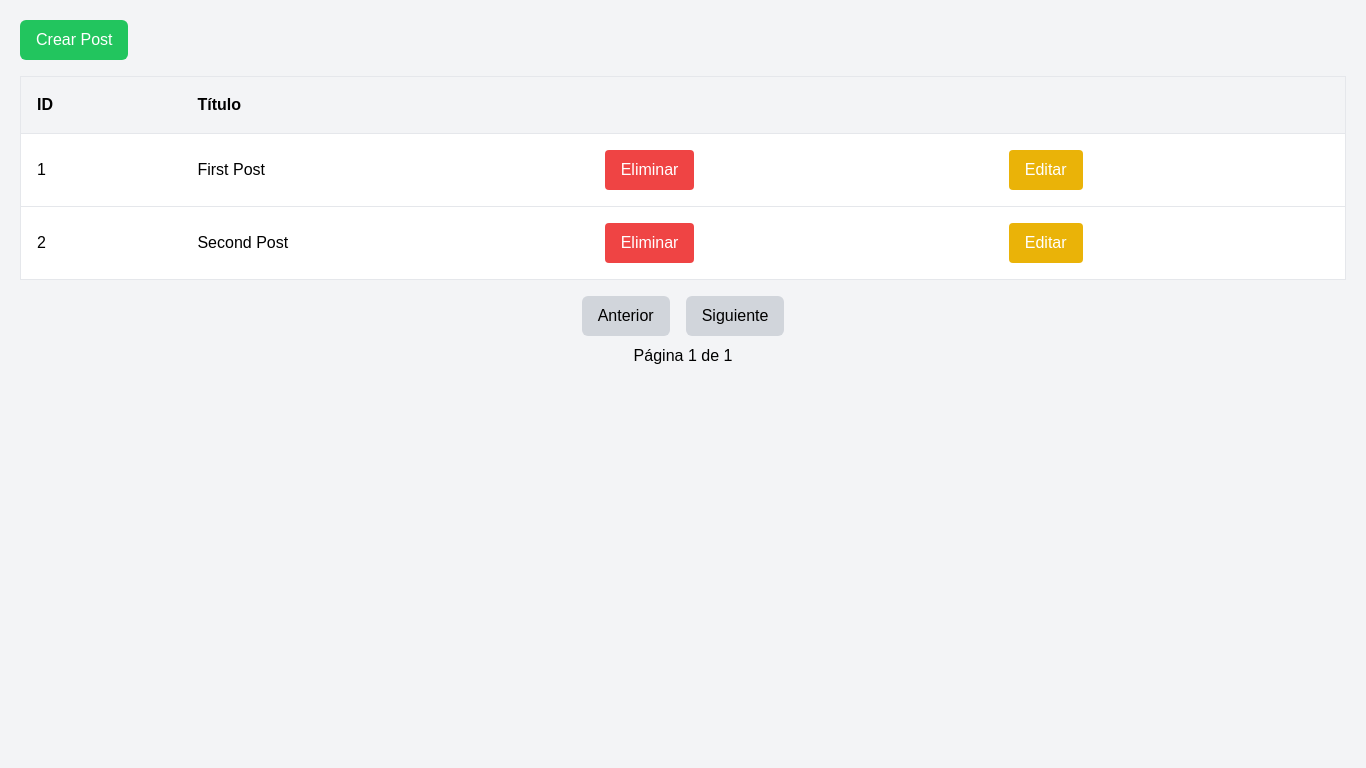
it: PostList Component › handles delete post functionality
The width and height of the screenshot is (1366, 768).
Expected: the text "First Post" is shown, x1=181 y1=134 x2=589 y2=206
Expected: the text "Second Post" is shown, x1=181 y1=206 x2=589 y2=280
Note: Click en el botón "Eliminar" del primer post
Click the button "Eliminar" in the row of "First Post" at [650, 170], box x1=605 y1=150 x2=694 y2=190
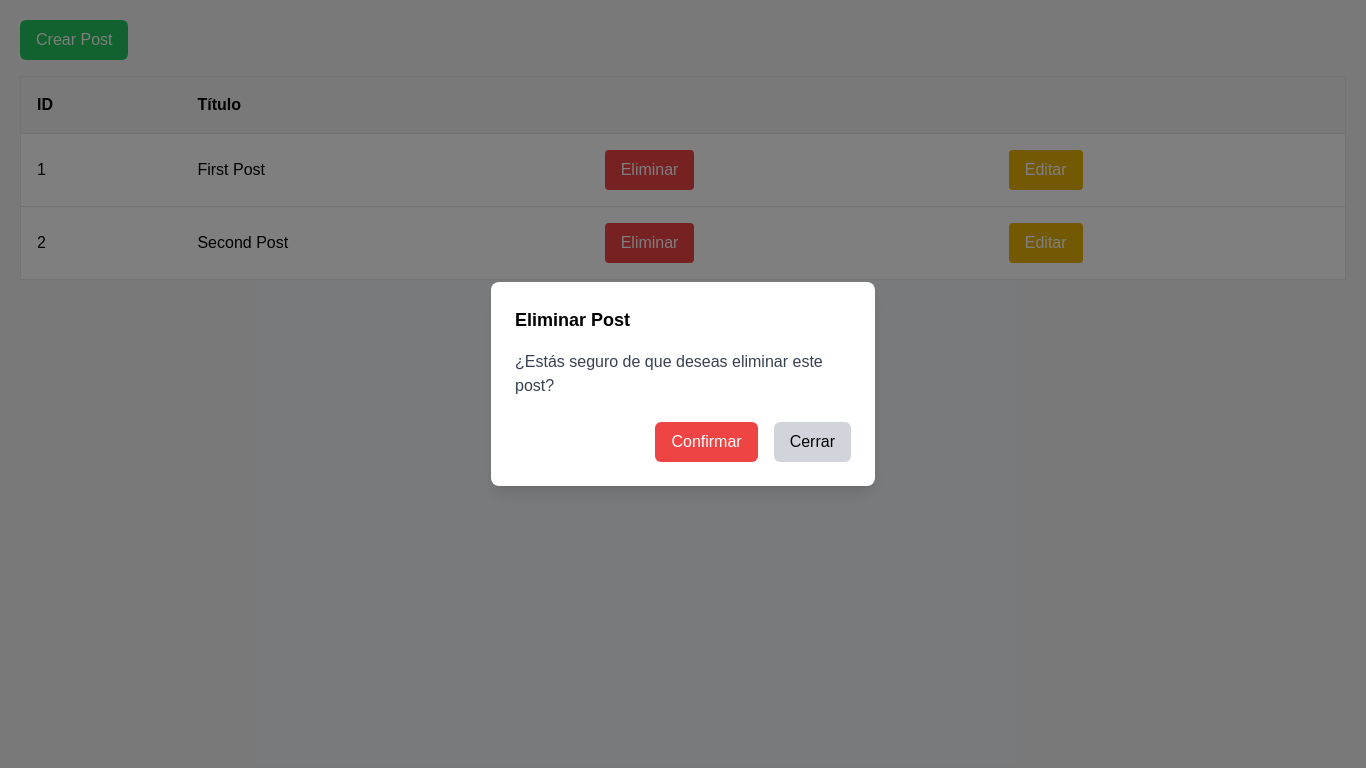
Note: Confirmar la eliminación en el modal
Click the button "Confirmar" at [706, 442], box x1=655 y1=422 x2=758 y2=462
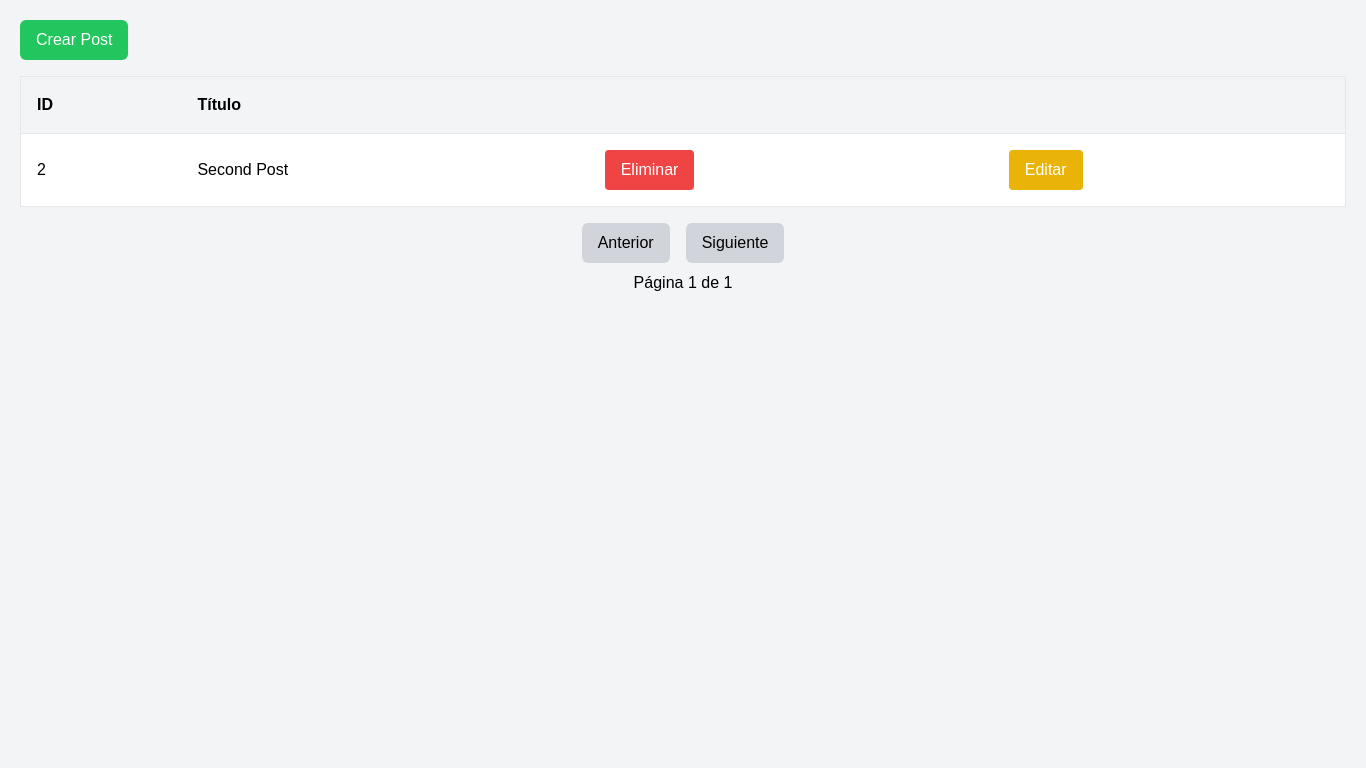
Expected: the text "First Post" is gone
